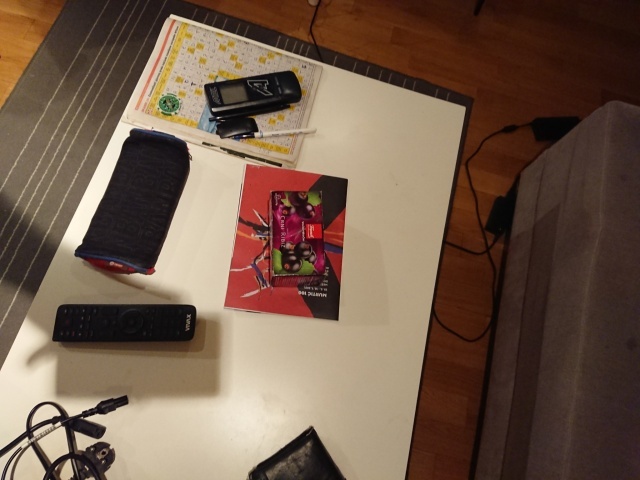Franck Black Currant Tea 60g: (266, 188, 328, 289)
